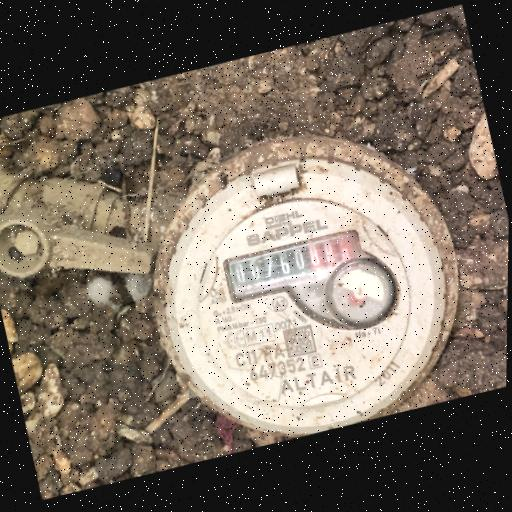0: (289, 245, 311, 275), (230, 261, 252, 290), (246, 256, 267, 285)
6: (276, 248, 297, 278)
7: (336, 234, 359, 263), (261, 252, 283, 282)
8: (305, 243, 327, 272), (320, 238, 341, 267)
border_water_meter_number: (221, 227, 368, 306)
